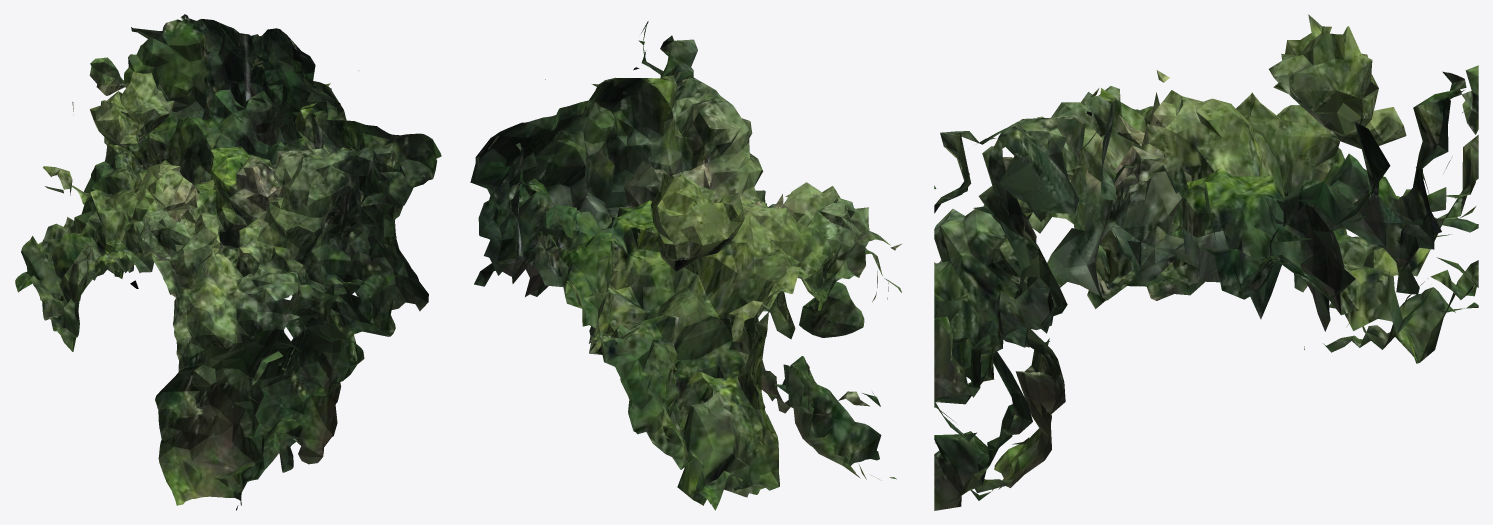
3 renders of one model, left to right at view 1: azimuth 30°, elevation 25°; view 2: azimuth 150°, elevation 25°; view 3: azimuth 270°, elevation 25°, orthographic. The views are drawn at different scales.
Size of the model in its own units: 20.62 by 26.11 by 26.11.
7 materials, 7 textured.
